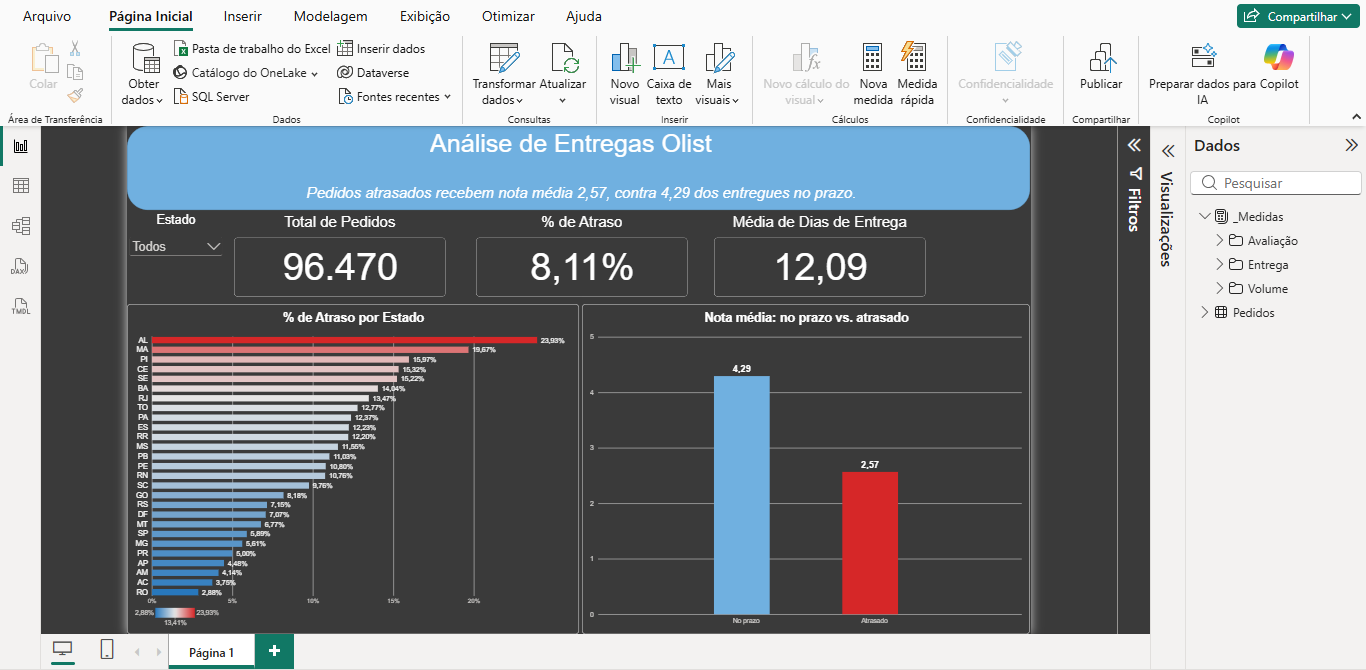

The page's visual inventory and layout, read from the dashboard file:
{"tool":"powerbi","page":{"name":"Página 1","canvas":[1920,1080],"ordinal":0},"visuals":[{"type":"cardVisual","title":"% de Atraso","fields":{"Data":["Pedidos.% de Atraso"]},"box":[742,185,450,178],"z":0},{"type":"cardVisual","title":"Total de Pedidos","fields":{"Data":["Pedidos.Total de Pedidos"]},"box":[227.5,185,450,178.6],"z":1000},{"type":"cardVisual","title":"Média de Dias de Entrega","fields":{"Data":["Pedidos.Média de Dias de Entrega"]},"box":[1247.2,183.9,450,178],"z":2000},{"type":"barChart","title":"% de Atraso por Estado","fields":{"Category":["Pedidos.customer_state"],"Y":["Pedidos.% de Atraso"]},"box":[0,378.4,960.9,701.6],"z":3000},{"type":"columnChart","title":"Nota média: no prazo vs. atrasado","fields":{"Category":["Pedidos.Situação"],"Y":["Pedidos.Nota Média"]},"box":[967.3,378.4,952.4,701.6],"z":4000},{"type":"shape","box":[0,0,1920,178.9],"z":5000},{"type":"textbox","box":[644.2,6.4,632.4,83.1],"z":6000},{"type":"slicer","title":"Estado","fields":{"Values":["Pedidos.customer_state"]},"box":[0,185,208.3,178.6],"z":7000},{"type":"textbox","box":[327.4,123.3,1277.7,55.3],"z":7001}]}

Visuals, with their boxes on the page's 1920x1080 design canvas (x1, y1, x2, y2). These are canvas units, not pixel positions in the 1366x670 screenshot, which may show the page scaled, cropped or inside an application window:
"% de Atraso" cardVisual: detection(742, 185, 1192, 363)
"Total de Pedidos" cardVisual: detection(228, 185, 678, 364)
"Média de Dias de Entrega" cardVisual: detection(1247, 184, 1697, 362)
"% de Atraso por Estado" barChart: detection(0, 378, 961, 1080)
"Nota média: no prazo vs. atrasado" columnChart: detection(967, 378, 1920, 1080)
shape: detection(0, 0, 1920, 179)
textbox: detection(644, 6, 1277, 90)
"Estado" slicer: detection(0, 185, 208, 364)
textbox: detection(327, 123, 1605, 179)
